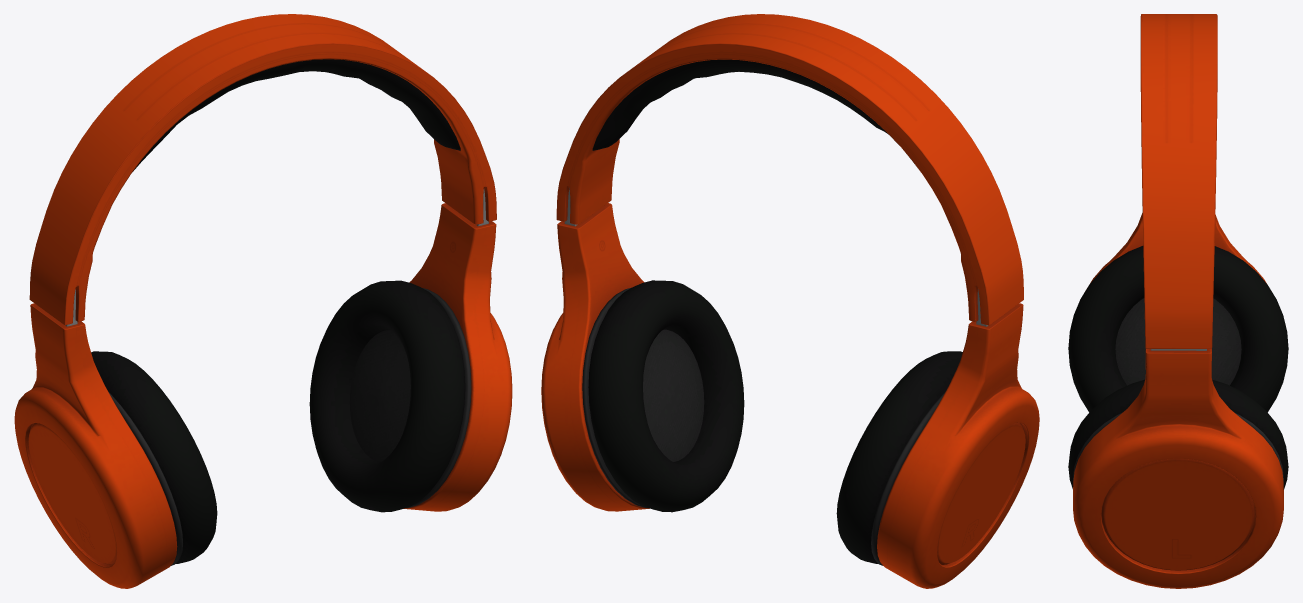
The model's file is headset.gltf.
The picture shows the model from 3 angles, left to right: view 1: azimuth 30°, elevation 25°; view 2: azimuth 150°, elevation 25°; view 3: azimuth 270°, elevation 25°; orthographic projection. The views are drawn at different scales.
Parts seen in each view (by area): view 1: SM_Headset01; view 2: SM_Headset01; view 3: SM_Headset01.
Boxes of the visible parts, x1=… form: SM_Headset01: x1=14, y1=14, x2=512, y2=588; SM_Headset01: x1=541, y1=14, x2=1039, y2=588; SM_Headset01: x1=1068, y1=14, x2=1288, y2=588.
Size of the model in its own units: 0.1991 by 0.222 by 0.0923.
Materials: 1 (1 with a texture image).
